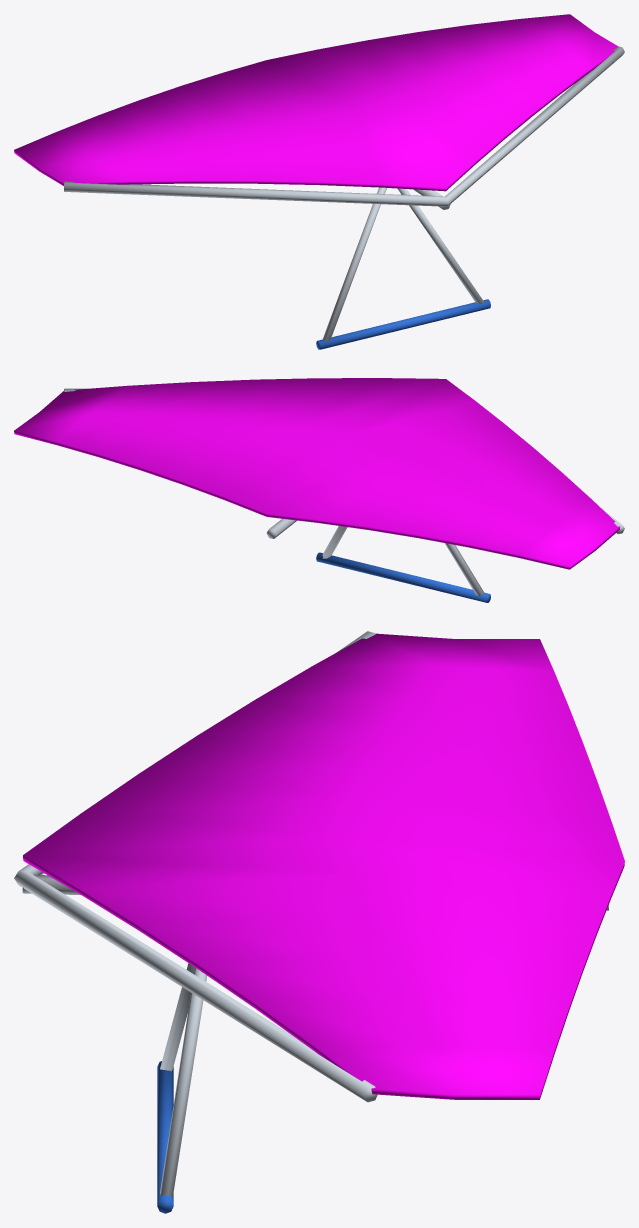
Rendered from glider.glb.
3 views of the same model, one above another, from view 1: azimuth 30°, elevation 25°; view 2: azimuth 150°, elevation 25°; view 3: azimuth 270°, elevation 25° (orthographic). The views are drawn at different scales.
Visible parts, largest first — view 1: glider; view 2: glider; view 3: glider.
Boxes of the visible parts, bbox=[...] form: glider: bbox=[14, 14, 624, 349]; glider: bbox=[14, 378, 624, 602]; glider: bbox=[14, 631, 624, 1213].
Size of the model in its own units: 3.43 by 1.08 by 1.93.
